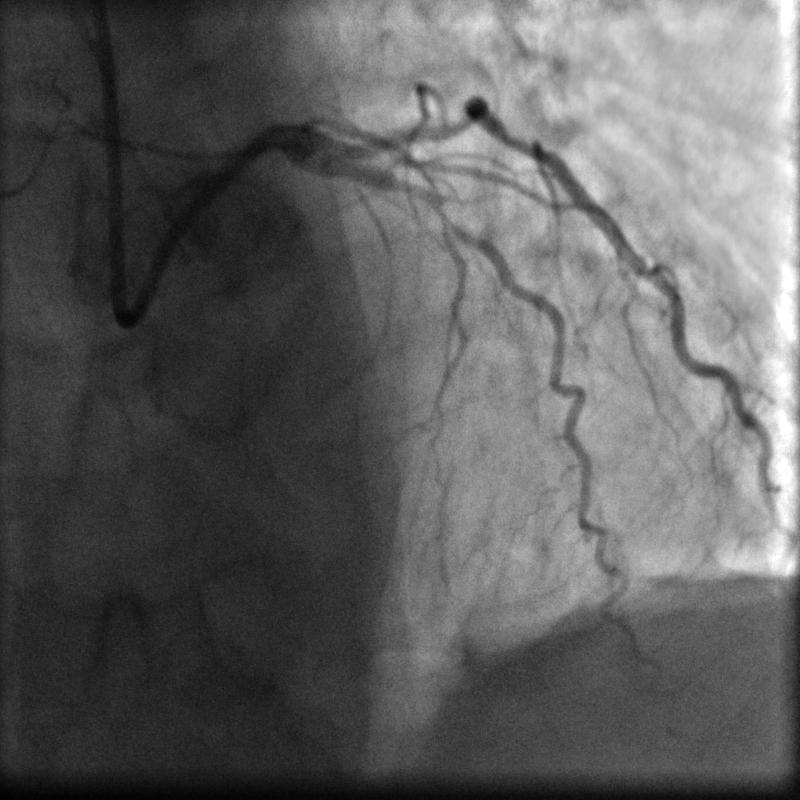Stenosis: (392, 164, 446, 233)
